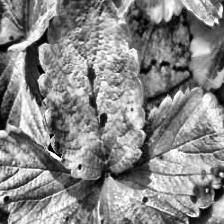Leaf Spot: (37, 0, 147, 181), (98, 86, 224, 224), (0, 122, 102, 224), (0, 0, 95, 52)
